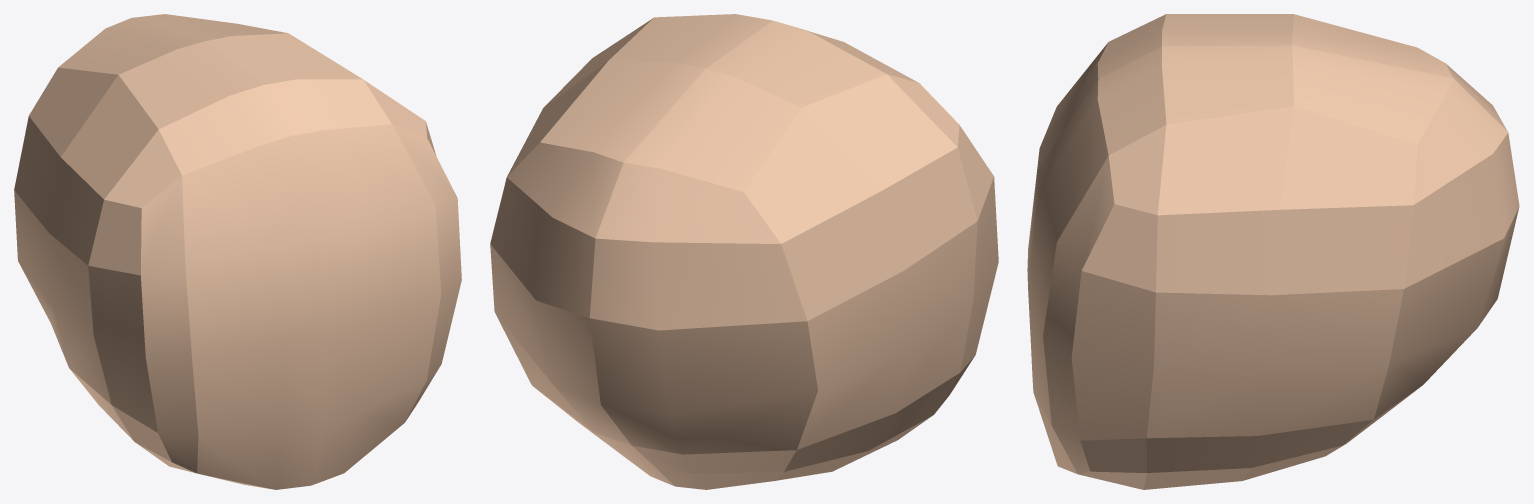
Rendered from Cabeza_Default.fbx.
3 renders of one model, left to right at view 1: azimuth 30°, elevation 25°; view 2: azimuth 150°, elevation 25°; view 3: azimuth 270°, elevation 25°, orthographic. The views are drawn at different scales.
Visible parts, largest first — view 1: Cabeza_1; view 2: Cabeza_1; view 3: Cabeza_1.
Part boxes in pixels (<box>): Cabeza_1: <box>14,14,461,489</box>; Cabeza_1: <box>490,14,998,489</box>; Cabeza_1: <box>1027,14,1519,489</box>.
Bounding box in the file's own units: 2.77 × 2.86 × 3.
